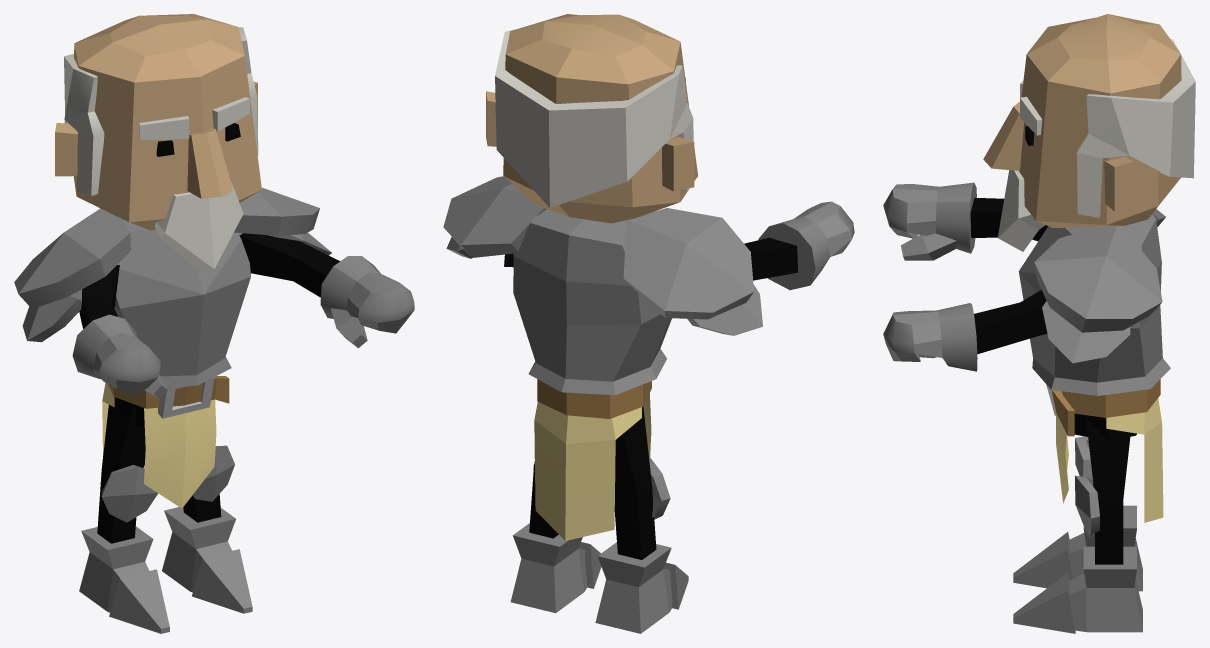
3 renders of one model, left to right at view 1: azimuth 30°, elevation 25°; view 2: azimuth 150°, elevation 25°; view 3: azimuth 270°, elevation 25°, orthographic. The views are drawn at different scales.
Visible parts, largest first — view 1: Soldier_20; view 2: Soldier_20; view 3: Soldier_20.
Boxes of the visible parts, <box> form: Soldier_20: <box>14,14,414,633</box>; Soldier_20: <box>443,14,854,633</box>; Soldier_20: <box>883,14,1195,633</box>.
Bounding box in the file's own units: 0.9548 × 1.64 × 0.8159.
7 materials, 1 textured.
